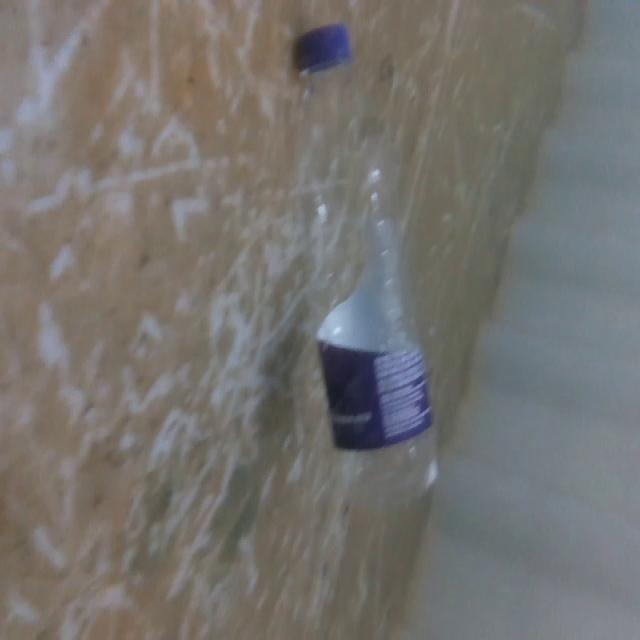plastic bottle: (281, 16, 458, 508)
